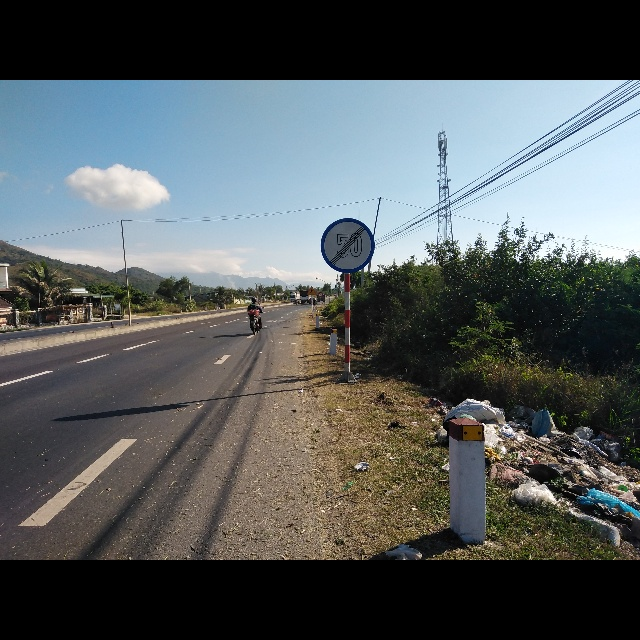Hết hạn chế tốc độ tối đa 50km/h: (319, 215, 377, 275)
